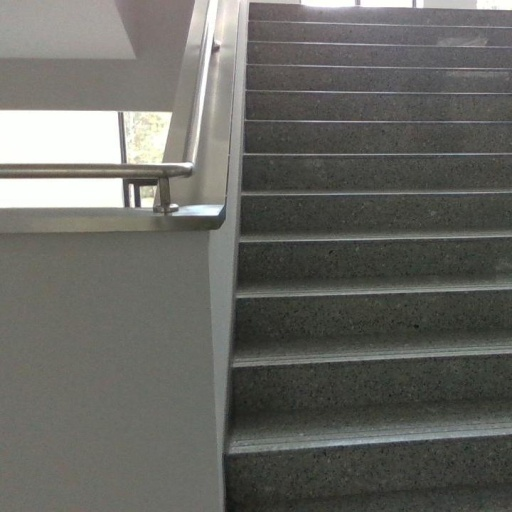Stairs: (225, 4, 512, 512)
